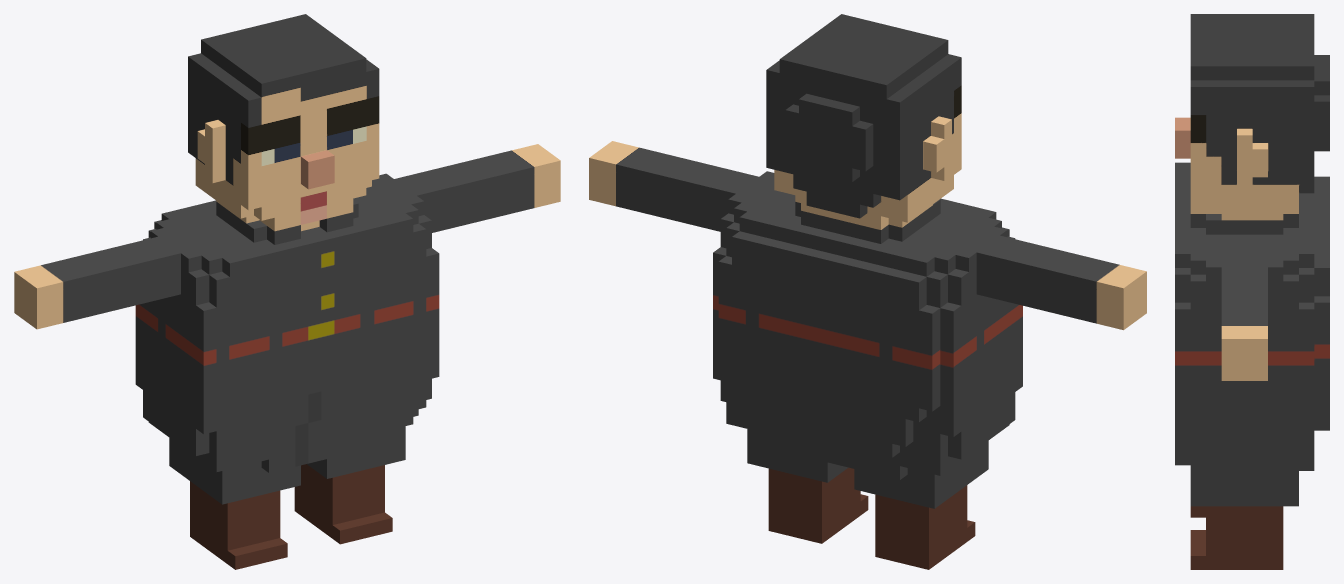
The model's file is saigotakamori.glb.
The picture shows the model from 3 angles, left to right: view 1: azimuth 30°, elevation 25°; view 2: azimuth 150°, elevation 25°; view 3: azimuth 270°, elevation 25°; orthographic projection. The views are drawn at different scales.
Visible parts, largest first — view 1: saigotakamori-Spine, saigotakamori-Head, saigotakamori-RightArm, saigotakamori-RightLeg, saigotakamori-LeftArm, saigotakamori-LeftLeg; view 2: saigotakamori-Spine, saigotakamori-Head, saigotakamori-RightArm, saigotakamori-RightLeg, saigotakamori-LeftArm, saigotakamori-LeftLeg; view 3: saigotakamori-Spine, saigotakamori-Head, saigotakamori-LeftLeg, saigotakamori-LeftArm.
Part boxes in pixels (x1,y1,x2,y2): saigotakamori-Spine: (135,173,439,472); saigotakamori-Head: (188,14,379,231); saigotakamori-RightArm: (14,236,180,329); saigotakamori-RightLeg: (169,438,300,569); saigotakamori-LeftArm: (394,144,560,232); saigotakamori-LeftLeg: (294,426,405,544); saigotakamori-Spine: (713,171,1022,479); saigotakamori-Head: (766,14,961,229); saigotakamori-RightArm: (976,235,1146,330); saigotakamori-RightLeg: (854,440,988,569); saigotakamori-LeftArm: (589,141,758,231); saigotakamori-LeftLeg: (747,429,868,543); saigotakamori-Spine: (1175,162,1329,470); saigotakamori-Head: (1175,14,1329,220); saigotakamori-LeftLeg: (1190,471,1298,569); saigotakamori-LeftArm: (1221,267,1267,380).
Bounding box in the file's own units: 4 × 3.5 × 1.
6 materials, 6 textured.
